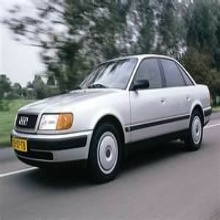no damage: (11, 53, 214, 180)
